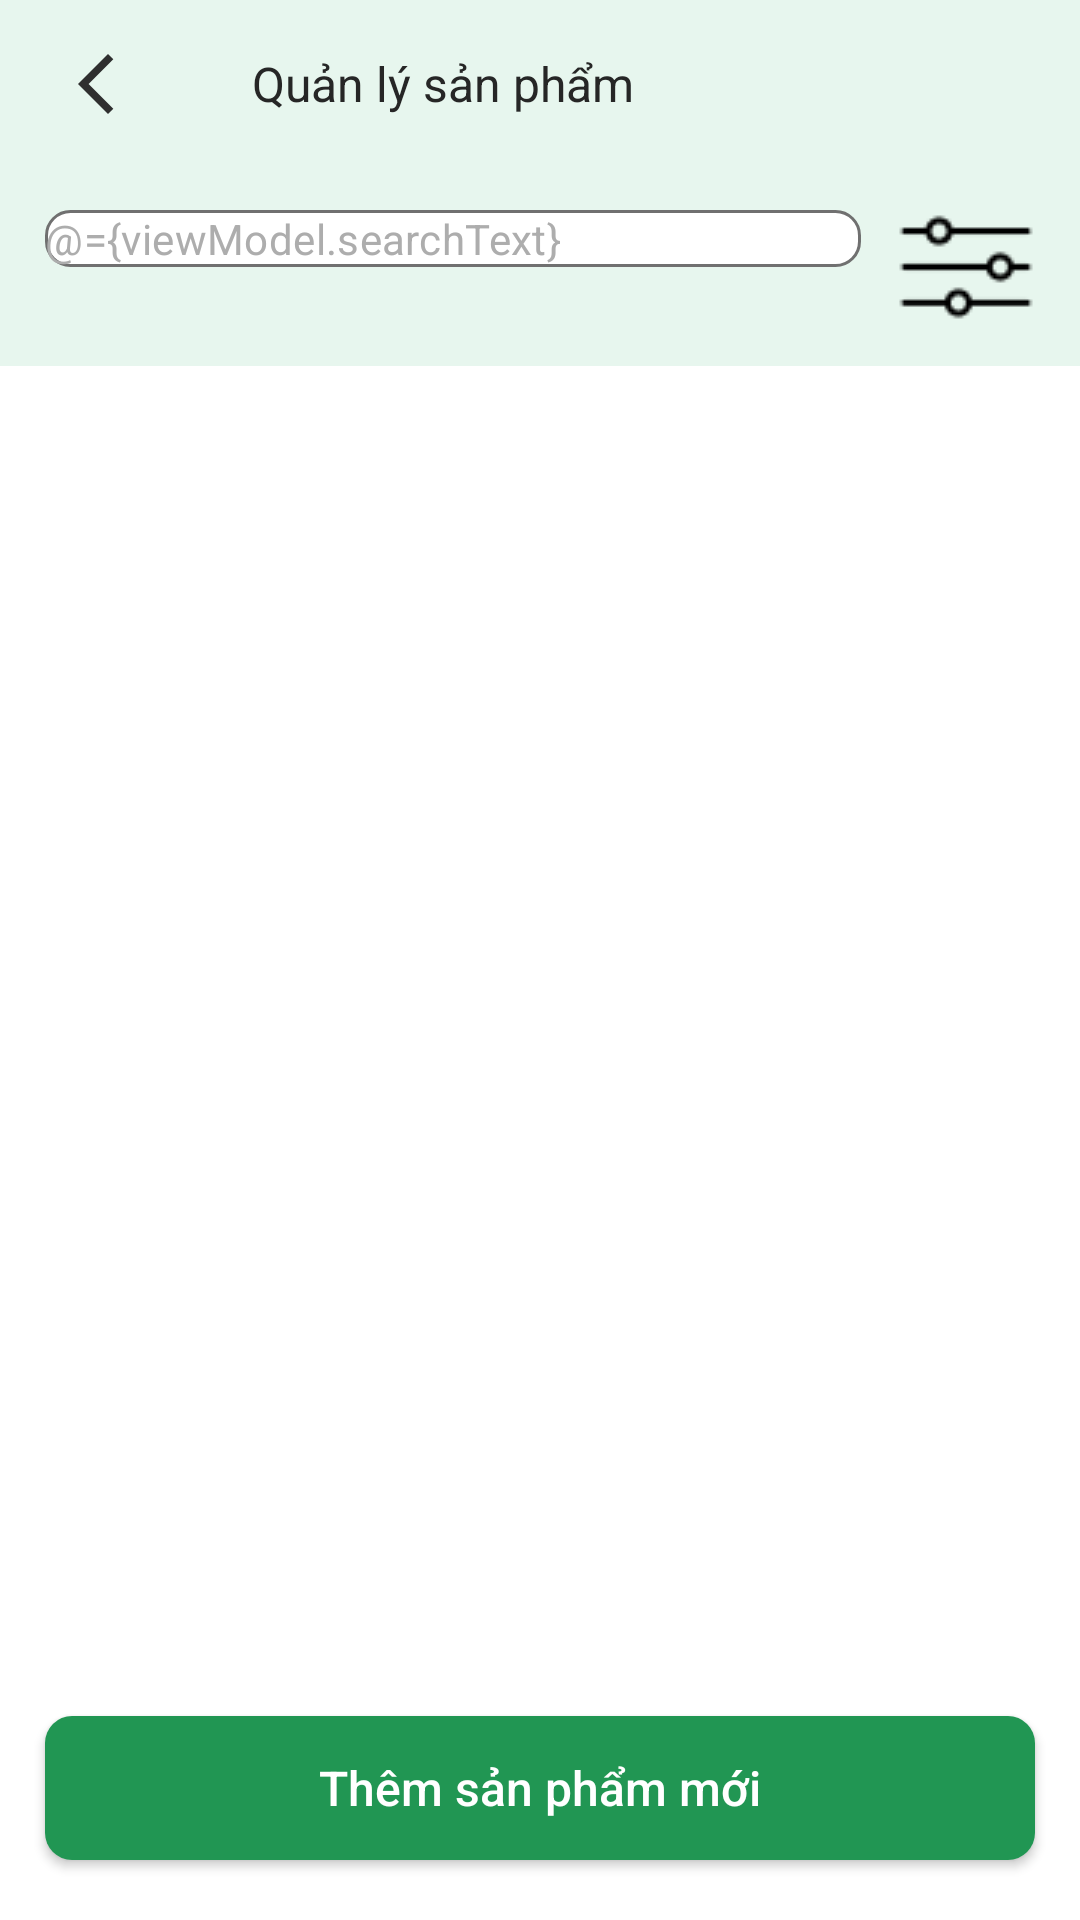

Named icons in this screenshot (1080x1920) and their bounding boxes, (x1, y1, x2, y2):
filter: (899, 215, 1033, 319)
